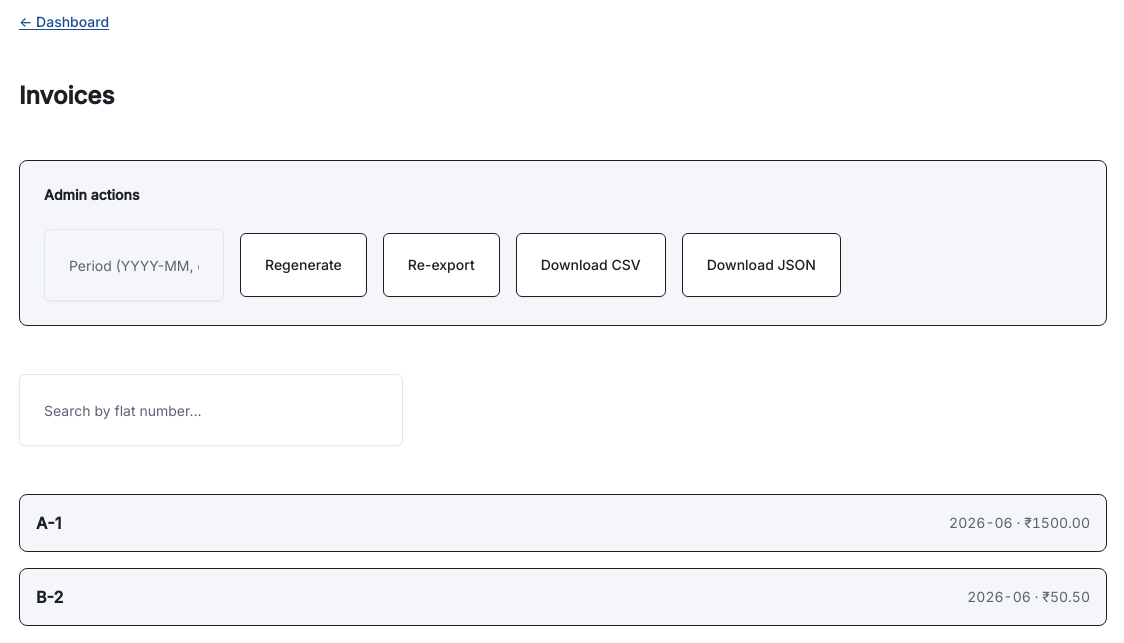
Scenario: TenantInvoices › search shows empty-state message when no flats match
The width and height of the screenshot is (1124, 643).
Type "zzz" into the field named "search invoices by flat" at [211, 410], box [19, 374, 403, 446]
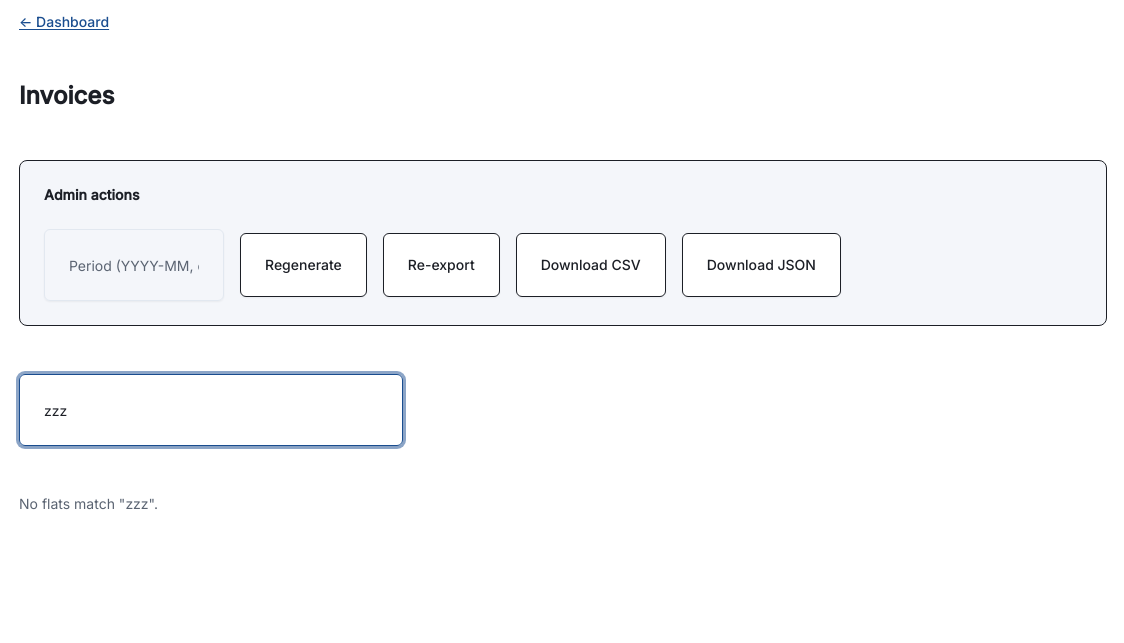
Expected: the text "No flats match \"zzz\"." is shown, [19, 495, 158, 512]
